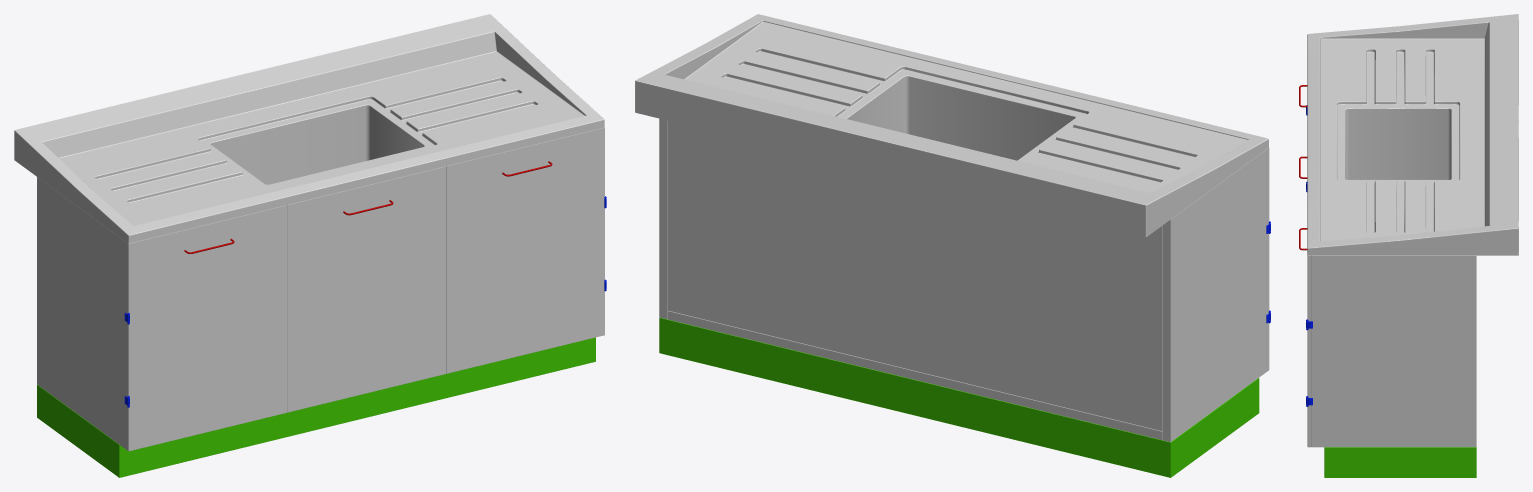
File: SinkBench01.fbx
The picture shows the model from 3 angles, left to right: view 1: azimuth 30°, elevation 25°; view 2: azimuth 150°, elevation 25°; view 3: azimuth 270°, elevation 25°; orthographic projection. The views are drawn at different scales.
Parts seen in each view (by area): view 1: Sink, Drawer01, SinkBench01, Drawer02, Drawer03; view 2: SinkBench01, Sink, Drawer01; view 3: Sink, SinkBench01, Drawer03.
Part boxes in pixels (x1,y1,x2,y2): Sink: (14,14,604,243); Drawer01: (126,205,287,451); SinkBench01: (37,177,606,477); Drawer02: (287,166,446,412); Drawer03: (446,127,604,373); SinkBench01: (659,118,1270,477); Sink: (635,14,1268,236); Drawer01: (1266,148,1269,371); Sink: (1307,14,1518,255); SinkBench01: (1306,105,1476,477); Drawer03: (1299,228,1311,447).
Size of the model in its own units: 151 by 65 by 81.53.
